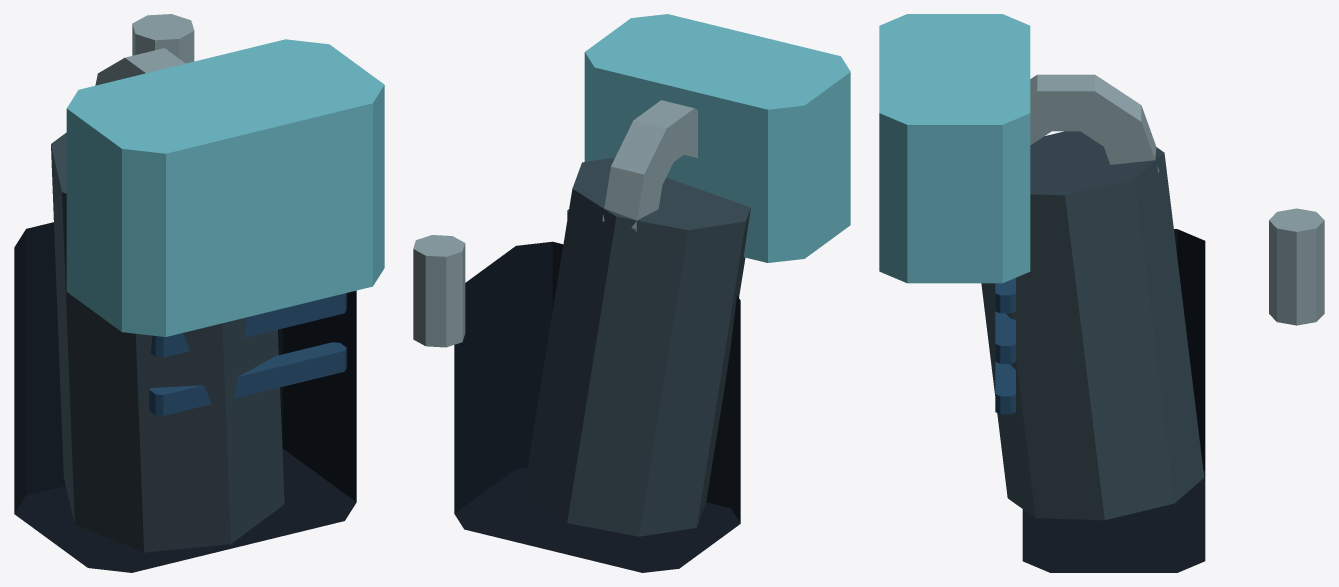
Rendered from enemy_marksman_shin_l.obj.
3 views of the same model, side by side, from view 1: azimuth 30°, elevation 25°; view 2: azimuth 150°, elevation 25°; view 3: azimuth 270°, elevation 25° (orthographic). The views are drawn at different scales.
Bounding box in the file's own units: 0.3988 × 0.59 × 0.56.
